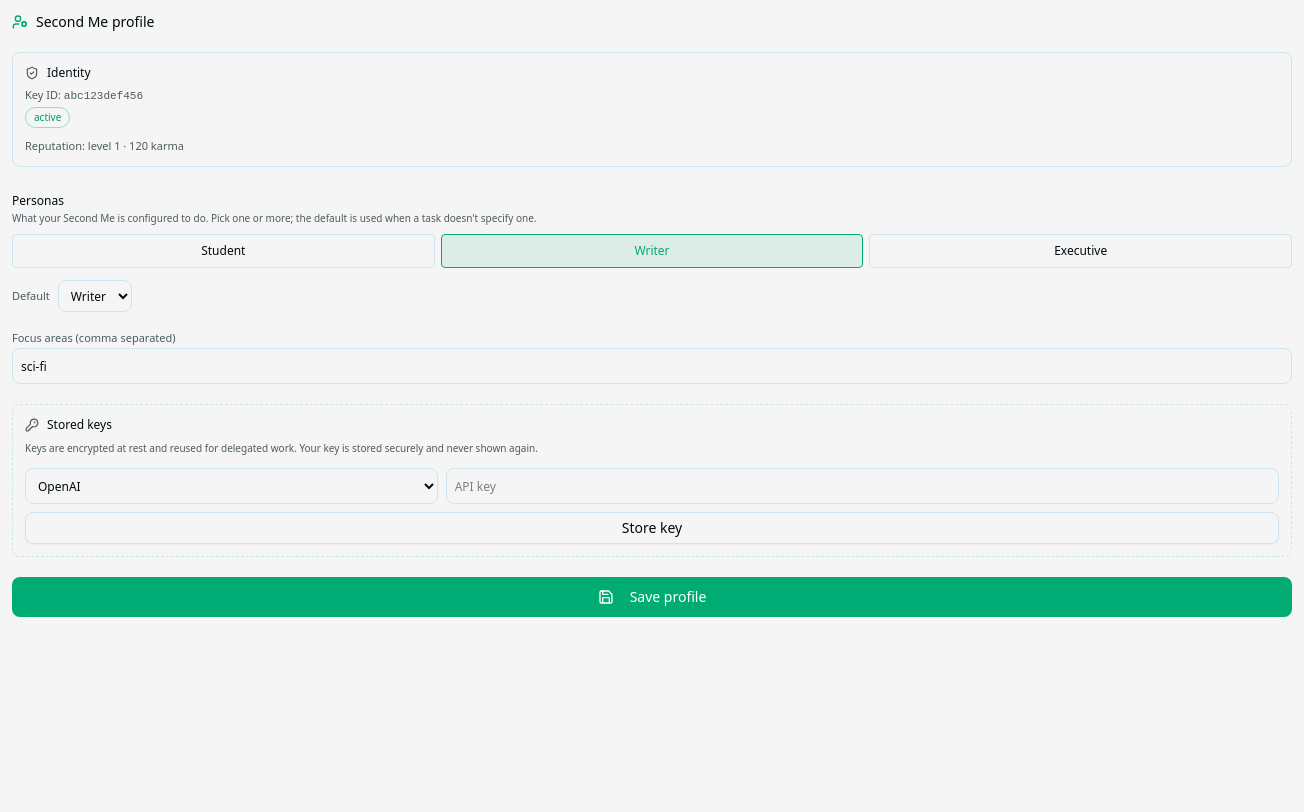
it: SecondMeProfilePanel › stores a key via the x-second-me-key header and never keeps it in the body
Check: the text "Second Me profile" is shown, box [36, 12, 154, 32]
Type "sk-secret-999" into the password field labelled "API key" at (862,486), box [446, 468, 1279, 504]
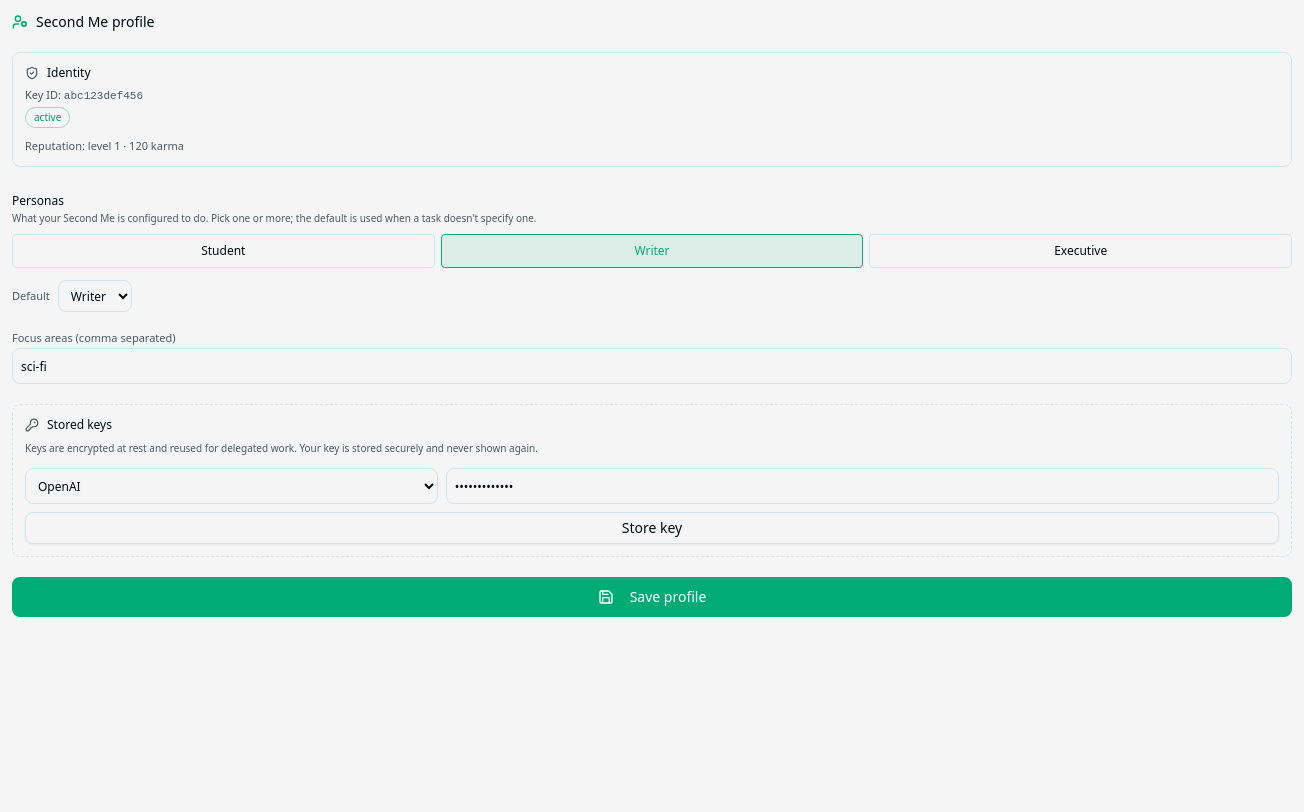
Click the button "Store key" at (652,528), box [25, 512, 1279, 544]
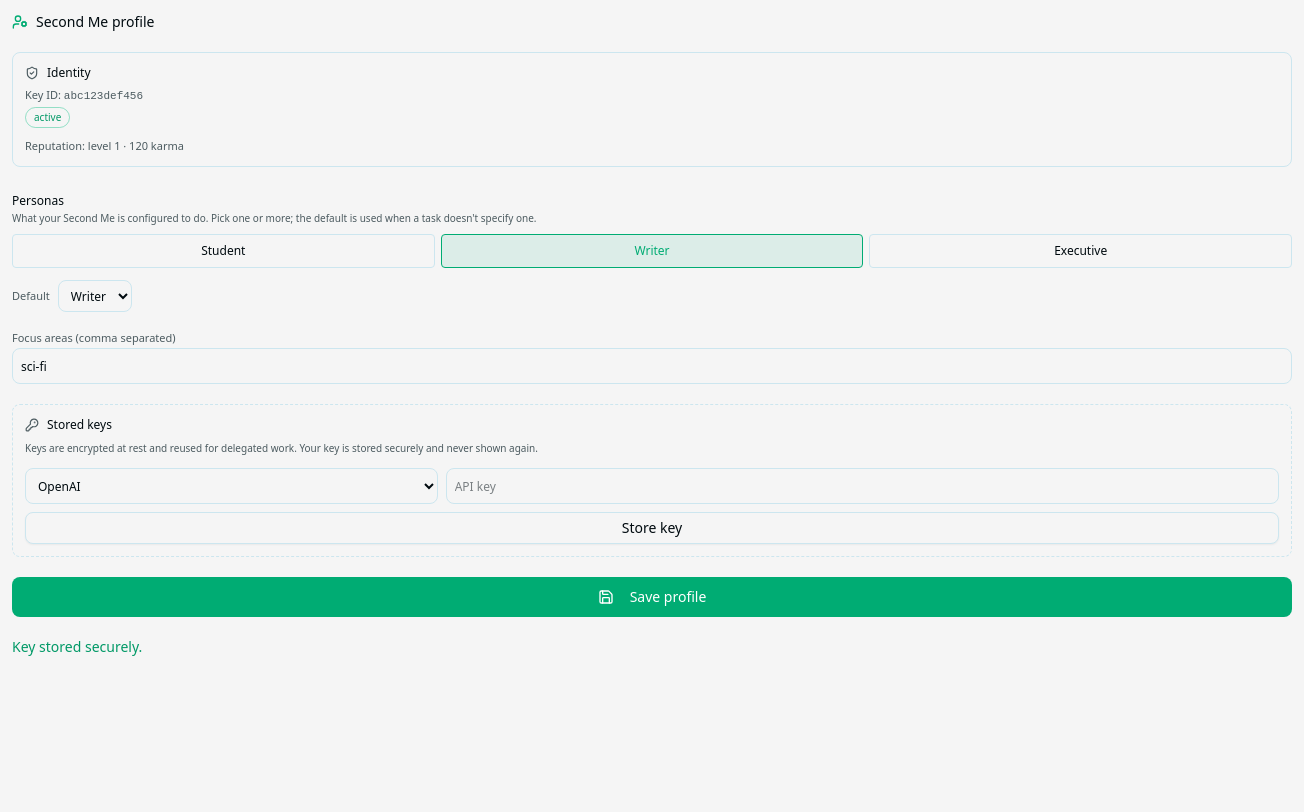
Check: the text "Key stored securely." is shown, box [12, 637, 142, 656]
